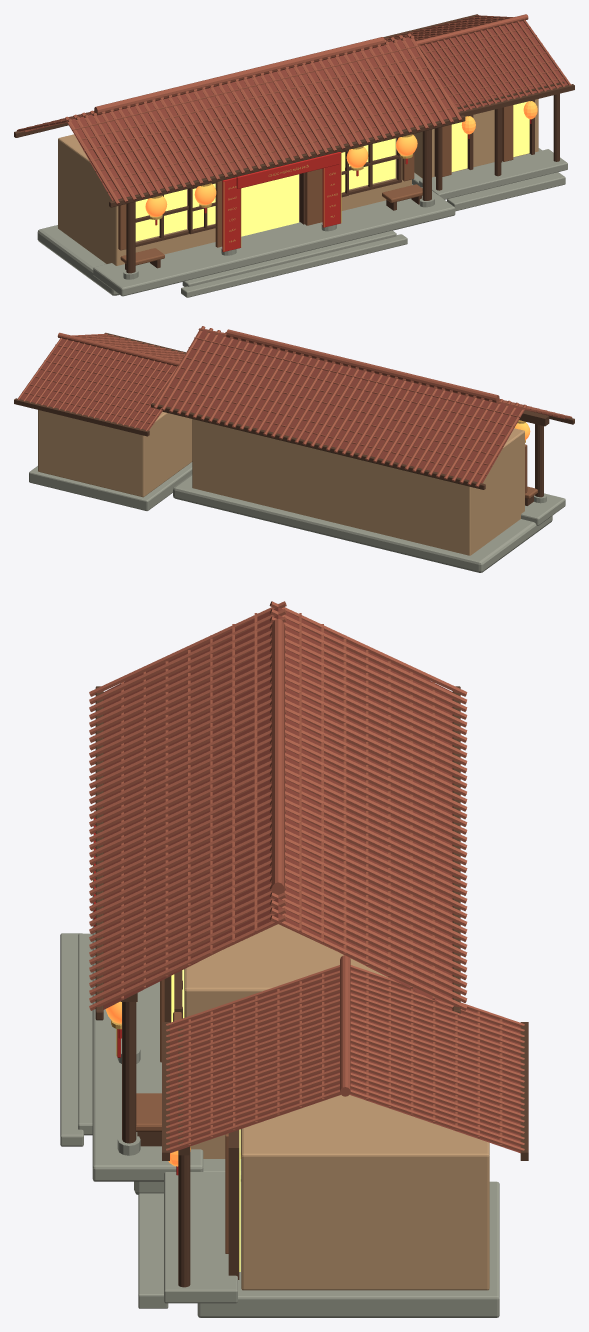
File: tet-house.glb
3 renders of one model, top to bottom at view 1: azimuth 30°, elevation 25°; view 2: azimuth 150°, elevation 25°; view 3: azimuth 270°, elevation 25°, orthographic. The views are drawn at different scales.
Visible parts, largest first — view 1: Terracotta roof slope.004, Porch floor.002, Plaster house.002, Side house tiled roof.002, Side house veranda.001, Door warm interior.002, Roof ridge.002, Front step.008, Roof fascia.004, Side house plaster rooms.001, House foundation.002, Side house front step.001 (+72 smaller); view 2: Plaster house.002, Terracotta roof slope.005, Side house plaster rooms.001, House foundation.002, Side house tiled roof.003, Side house foundation.001, Roof ridge.002, Roof fascia.005, Side roof fascia.003, Porch floor.002, Side roof ridge.001, Porch teak column.008 (+50 smaller); view 3: Side house plaster rooms.001, Terracotta roof slope.005, Terracotta roof slope.004, Side house foundation.001, Porch floor.002, Plaster house.002, Side house veranda.001, Side house tiled roof.003, Side house tiled roof.002, Front step.008, Roof ridge.002, Side house front step.001 (+96 smaller).
Part boxes in pixels (<box>): Terracotta roof slope.004: <box>66,37,455,200</box>; Porch floor.002: <box>93,187,455,296</box>; Plaster house.002: <box>58,134,411,265</box>; Side house tiled roof.002: <box>421,21,567,111</box>; Side house veranda.001: <box>419,149,567,199</box>; Door warm interior.002: <box>241,174,298,236</box>; Roof ridge.002: <box>94,37,384,115</box>; Front step.008: <box>181,234,407,297</box>; Roof fascia.004: <box>109,115,465,207</box>; Side house plaster rooms.001: <box>414,99,538,178</box>; House foundation.002: <box>37,184,412,295</box>; Side house front step.001: <box>447,172,565,211</box>; Plaster house.002: <box>192,419,524,555</box>; Terracotta roof slope.005: <box>159,329,525,483</box>; Side house plaster rooms.001: <box>38,410,192,497</box>; House foundation.002: <box>173,474,552,572</box>; Side house tiled roof.003: <box>20,339,176,430</box>; Side house foundation.001: <box>29,462,192,510</box>; Roof ridge.002: <box>226,329,499,403</box>; Roof fascia.005: <box>150,403,485,489</box>; Side roof fascia.003: <box>14,398,149,436</box>; Porch floor.002: <box>521,493,565,525</box>; Side roof ridge.001: <box>57,332,180,366</box>; Porch teak column.008: <box>535,424,543,497</box>; Side house plaster rooms.001: <box>241,1095,489,1290</box>; Terracotta roof slope.005: <box>278,607,452,1009</box>; Terracotta roof slope.004: <box>103,607,278,1009</box>; Side house foundation.001: <box>197,1181,499,1317</box>; Porch floor.002: <box>92,864,203,1181</box>; Plaster house.002: <box>184,924,388,1158</box>; Side house veranda.001: <box>164,1172,237,1303</box>; Side house tiled roof.003: <box>349,969,520,1153</box>; Side house tiled roof.002: <box>170,969,340,1153</box>; Front step.008: <box>60,933,83,1146</box>; Roof ridge.002: <box>271,619,284,894</box>; Side house front step.001: <box>138,1193,168,1308</box>.
Size of the model in its own units: 15.61 by 4.87 by 6.98.
